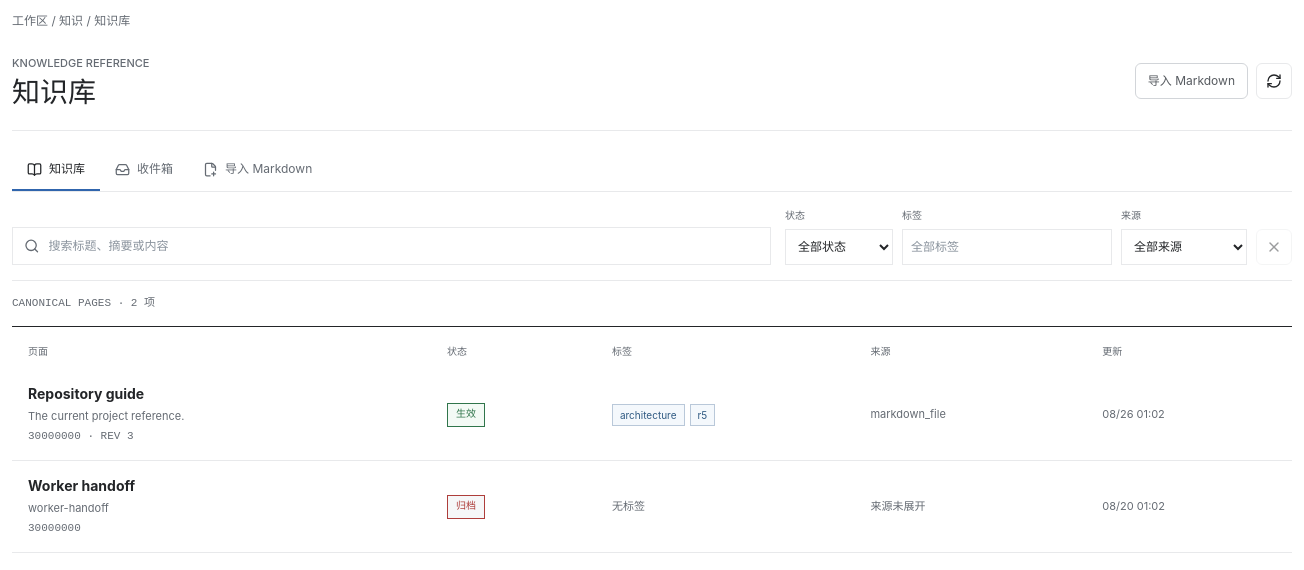
KnowledgeLibraryPage › debounces free-text search and supports Enter for immediate search
Type "context" into the search field named "搜索知识" at (404, 246), box left=48, top=229, right=759, bottom=263
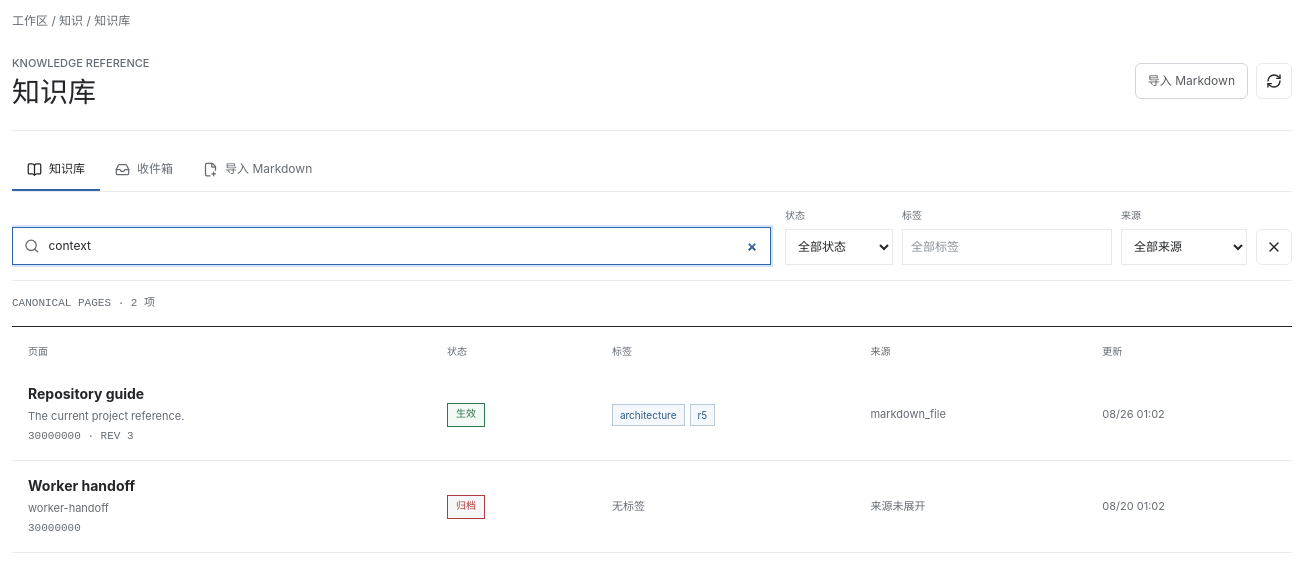
Press Enter
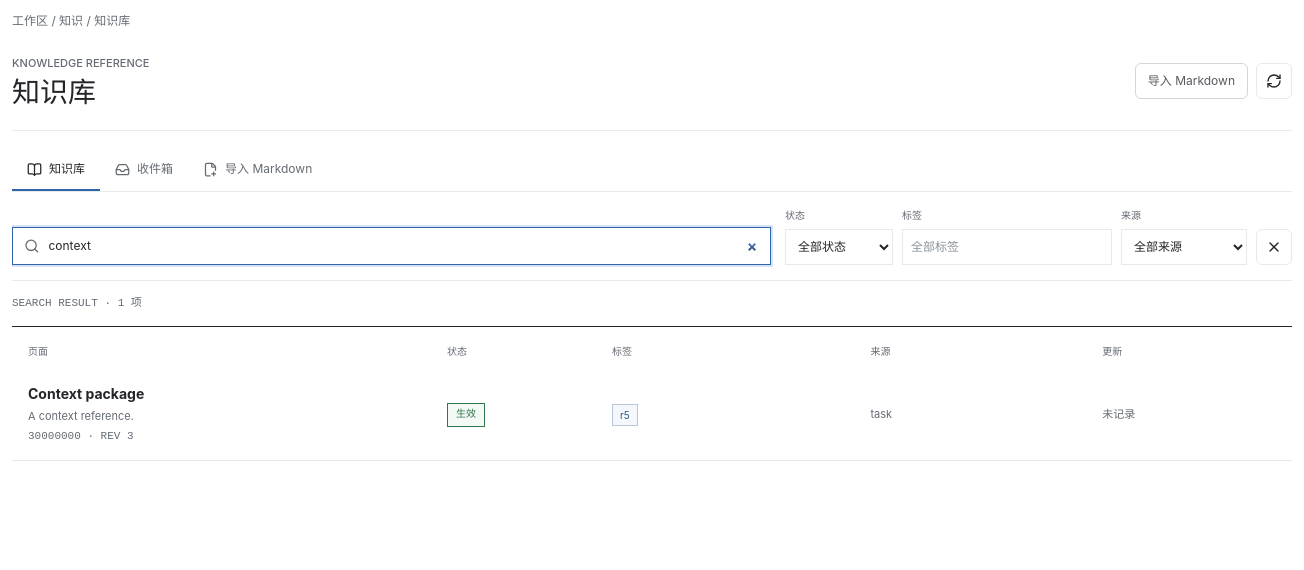
Expected: the text "Context package" is shown, left=28, top=385, right=144, bottom=402
